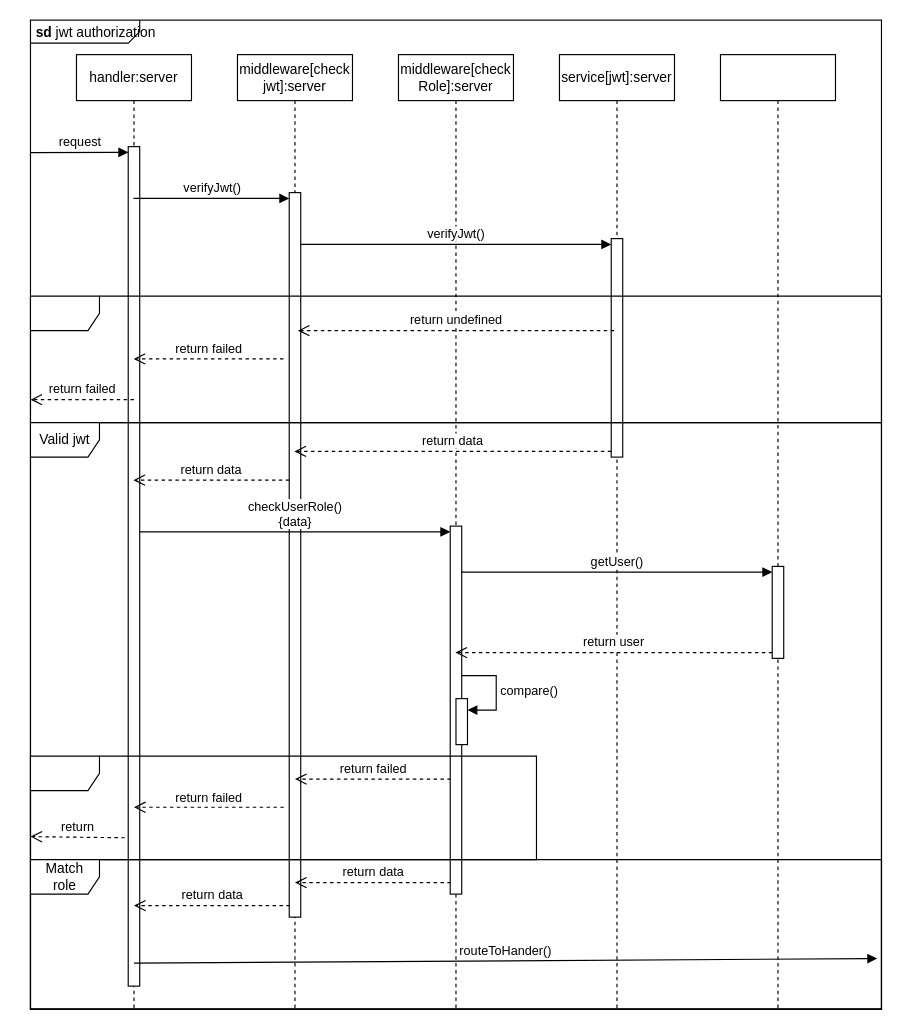
Some shapes in this 907 by 1029 pixel diagram are drawn without their labels. Each missing label, with the box of its shape:
Invalid jwt: (29, 295, 881, 423)
Not match role: (29, 755, 536, 860)
table[users]: database: (719, 53, 835, 1009)
